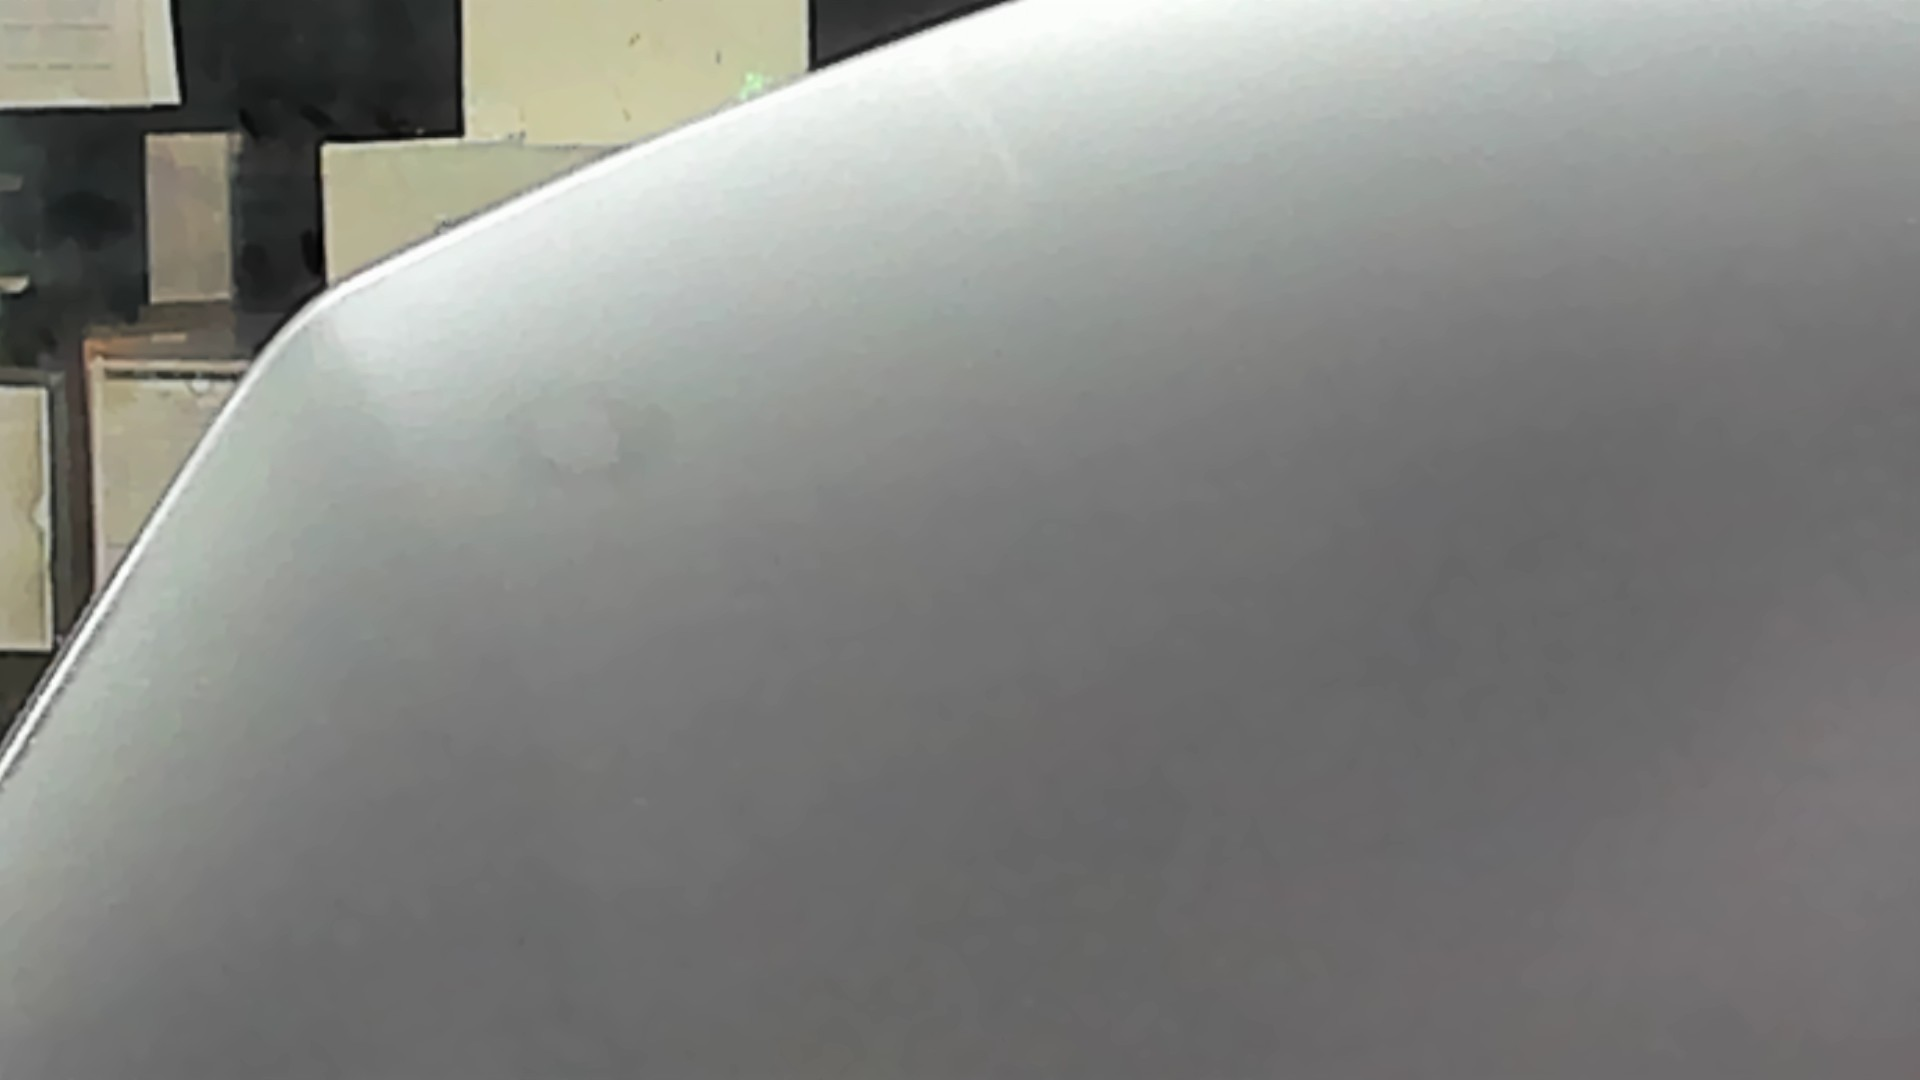capo: (556, 214, 1920, 1080)
